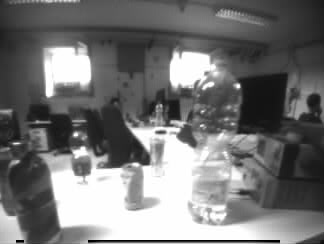Bottle: (189, 62, 238, 225), (8, 142, 60, 244), (70, 126, 92, 184), (155, 99, 162, 128)
Tin can: (120, 162, 145, 210), (150, 137, 165, 177)
